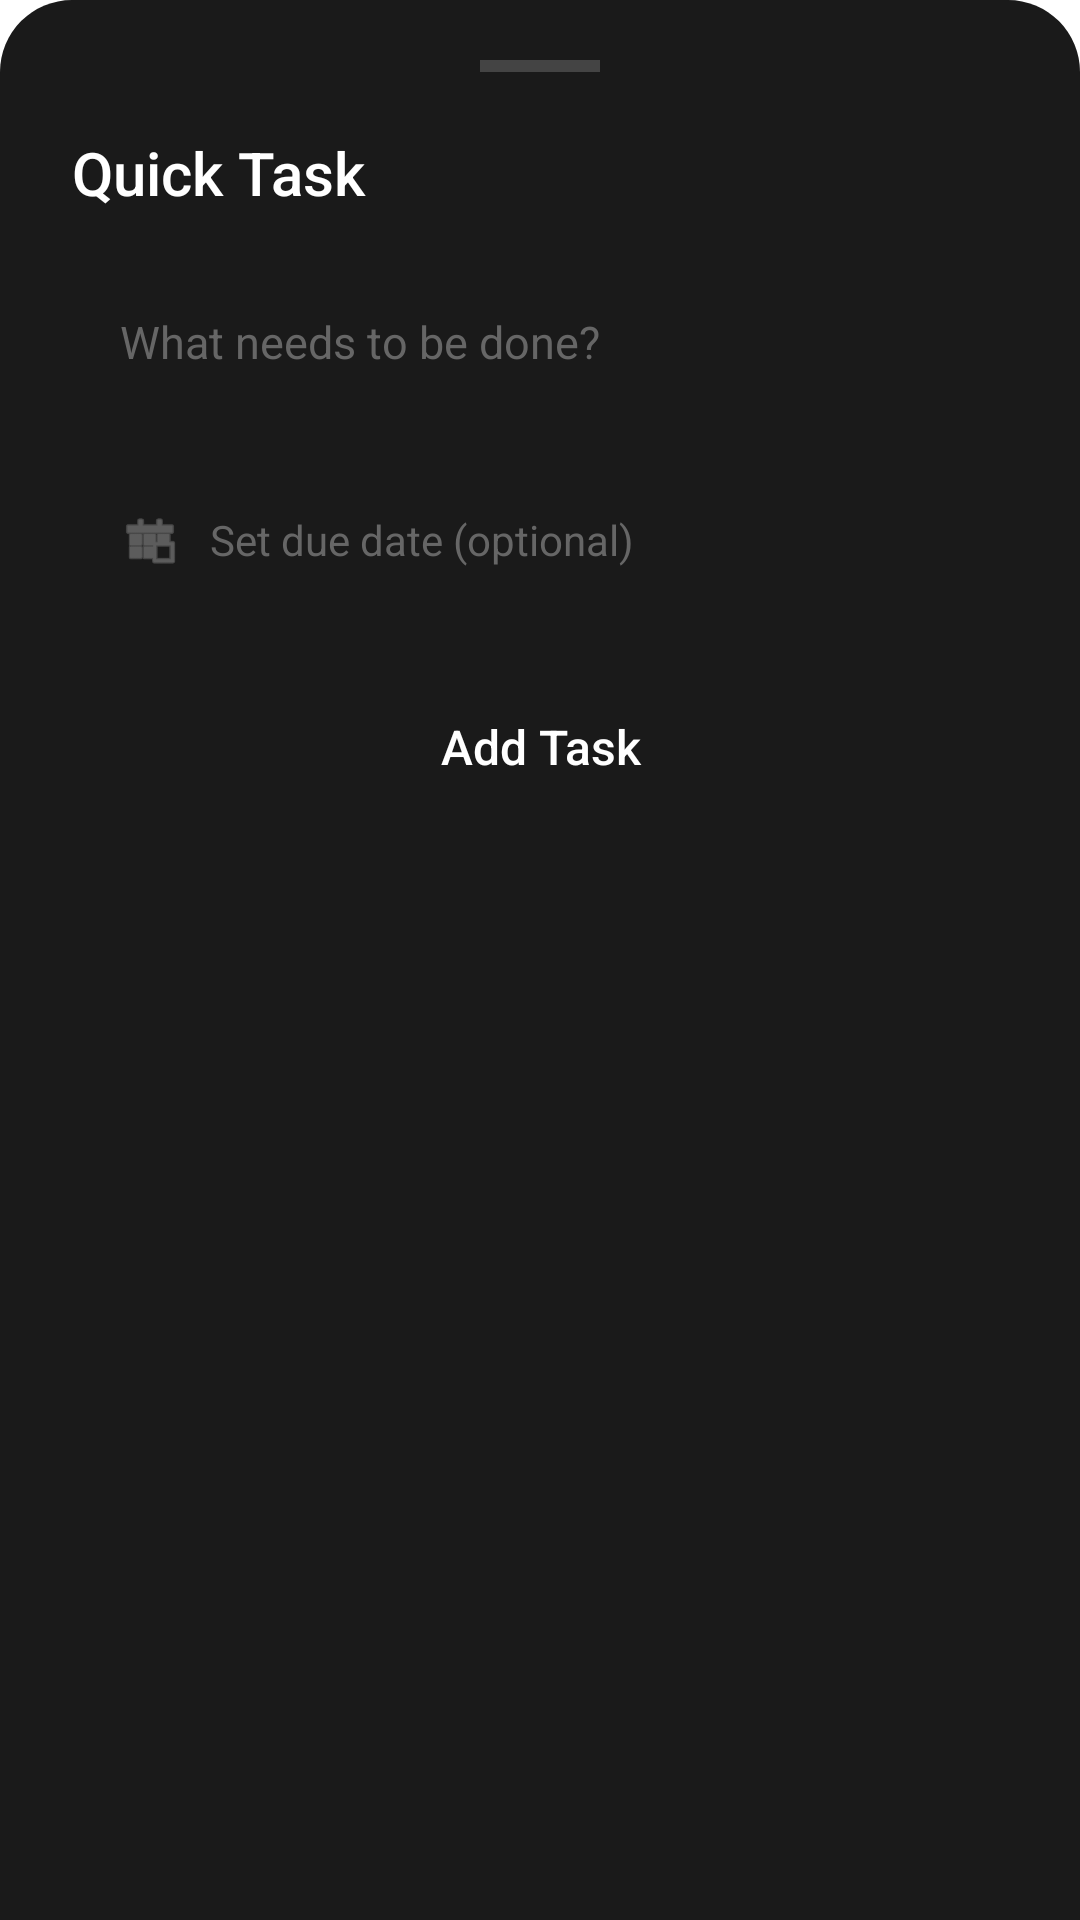

Icon click points for this 1080x1920 phone screenshot, format point (x, y):
today: point (150, 541)
